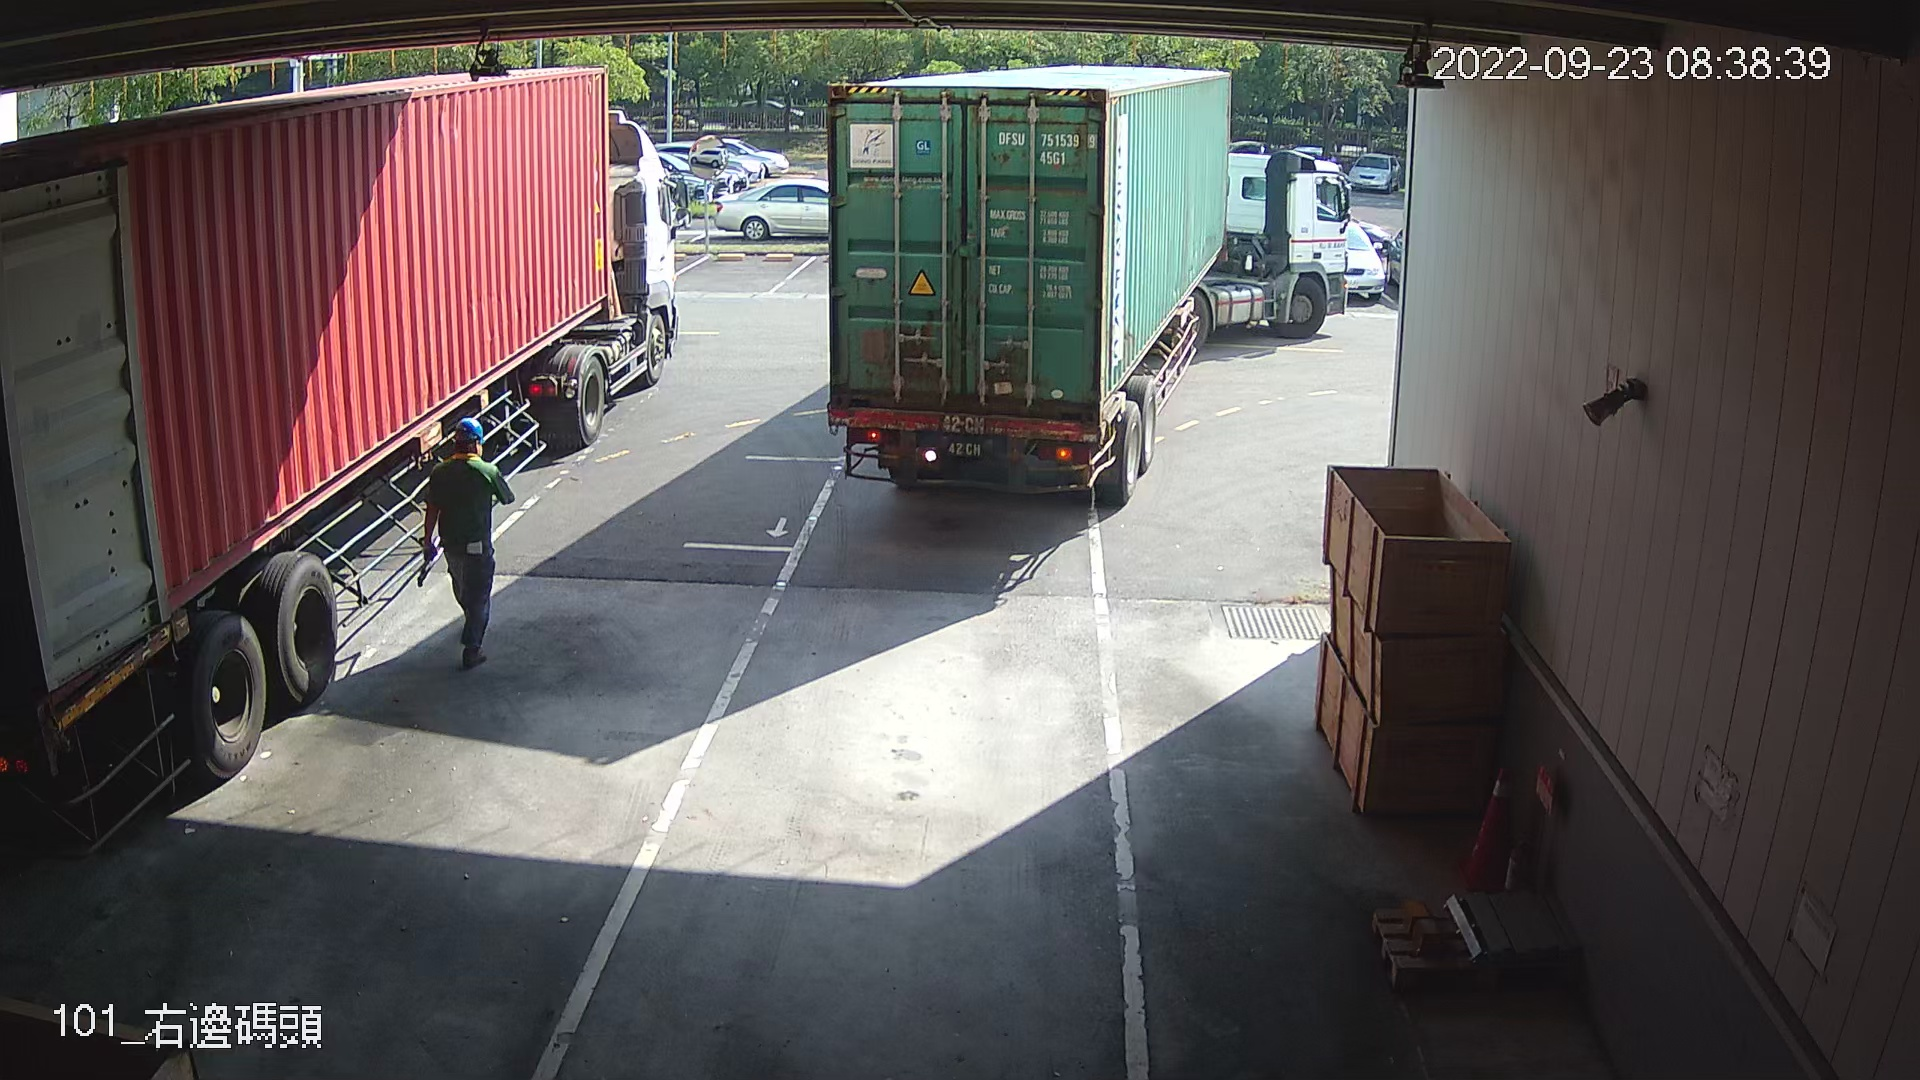container: (989, 123, 1101, 169)
